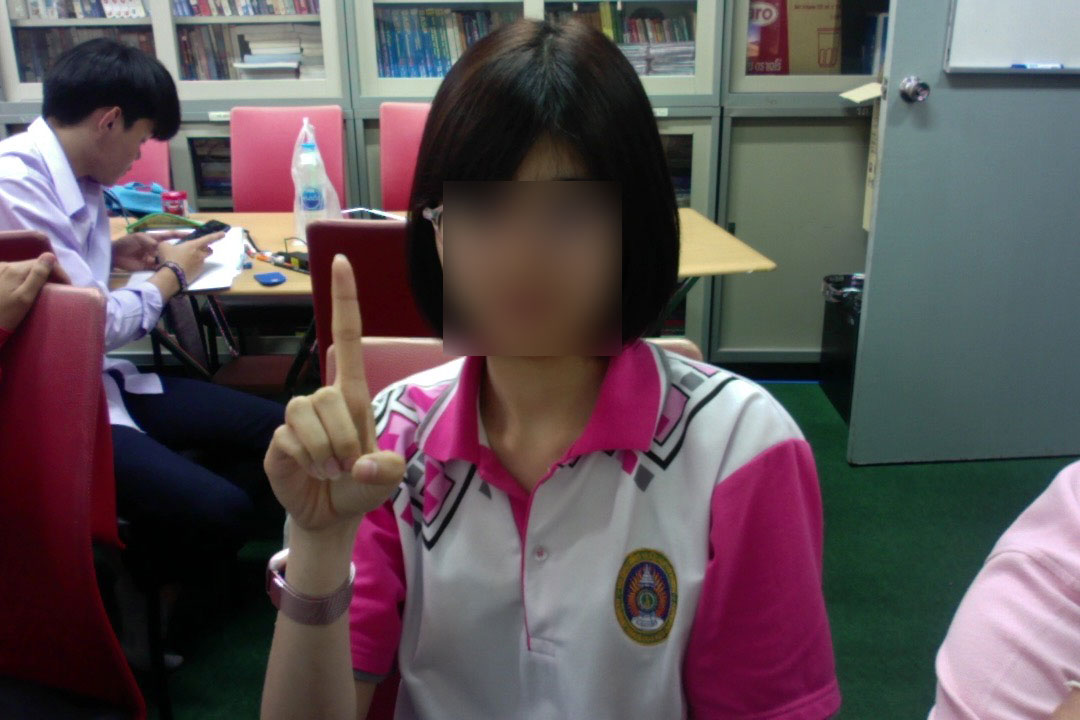dor: (252, 245, 410, 551)
